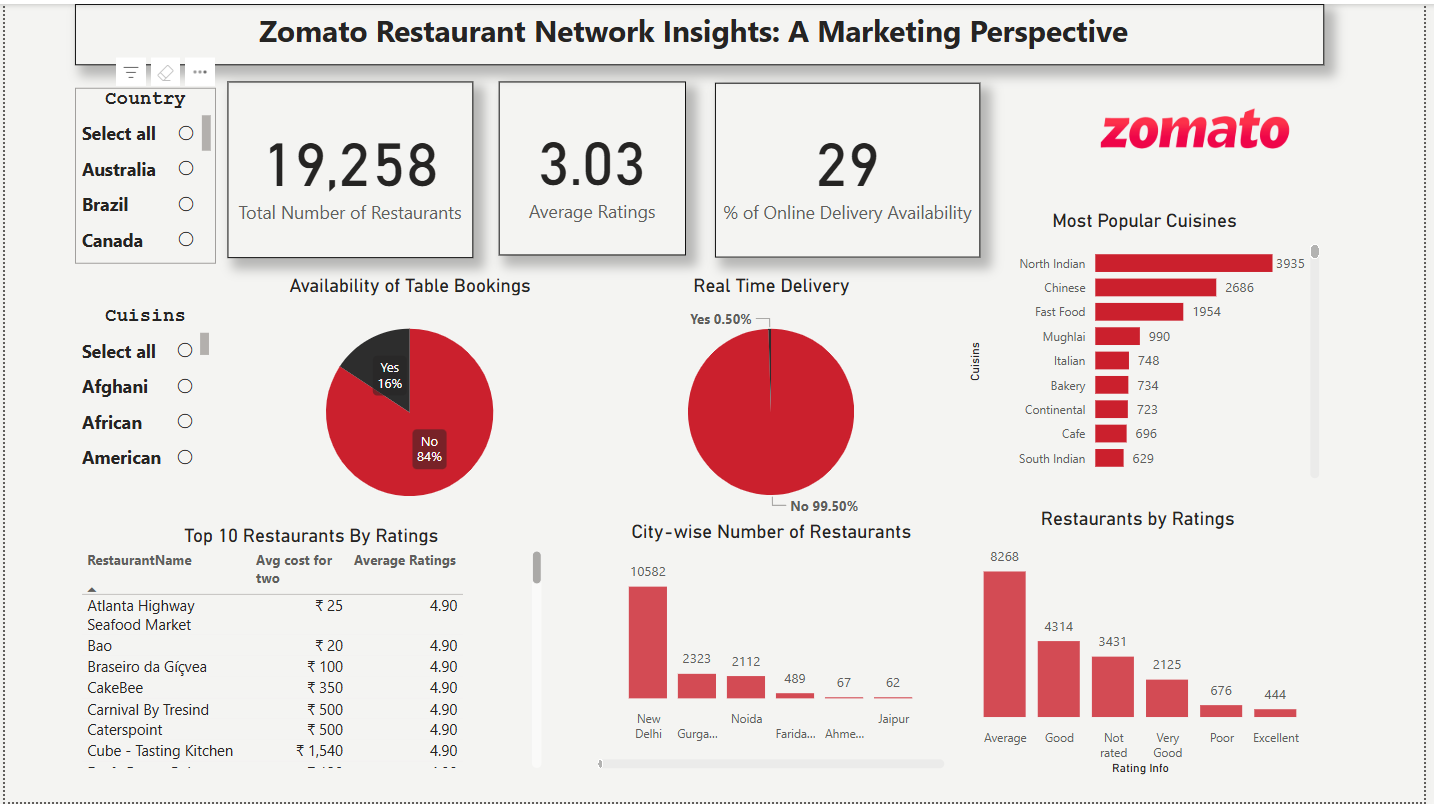

What the dashboard file says about the page in this screenshot:
{"tool":"powerbi","page":{"name":"Zomato Marketing Team Report","canvas":[2000,900],"ordinal":1},"visuals":[{"type":"textbox","box":[434.9,0,1126.9,55.5],"z":0},{"type":"card","title":"Average Rating","fields":{"Values":["Avg(ZomatoData (1).Rating 2)"]},"box":[865.2,73,200.4,95.5],"z":1000},{"type":"card","title":"Total No. of Restaurants","fields":{"Values":["CountNonNull(ZomatoData (1).RestaurantID)"]},"box":[434.5,71.2,262.2,93.6],"z":2000},{"type":"pieChart","title":"Availability of Table Bookings","fields":{"Category":["ZomatoData (1).Has_Table_booking"],"Y":["CountNonNull(ZomatoData (1).Has_Table_booking)"]},"box":[131,188.8,450.8,331.1],"z":3000},{"type":"pieChart","title":"Real Time Delivery","fields":{"Category":["ZomatoData (1).Is_delivering_now"],"Y":["CountNonNull(ZomatoData (1).Is_delivering_now)"]},"box":[565.5,189.1,471.9,331.5],"z":4000},{"type":"slicer","fields":{"Values":["Cuisins.Cuisins"]},"box":[1691.2,70.5,222.6,107.3],"z":5000},{"type":"clusteredBarChart","title":"Top 10 Most Popular Cuisins","fields":{"Category":["Cuisins.Cuisins"],"Y":["ZomatoData (1).count of restaurants"]},"box":[1108.6,194.8,842.7,329.6],"z":6000},{"type":"clusteredColumnChart","title":"Restaurants by Ratings","fields":{"Category":["ZomatoData (1).Rating Info"],"Y":["ZomatoData (1).count of restaurants"]},"box":[498.1,524.3,524.3,374.5],"z":7000},{"type":"slicer","fields":{"Values":["Country Code.Country Name"]},"box":[57.7,80.1,201.8,89.7],"z":8000},{"type":"clusteredColumnChart","title":"Top 20 City-wise Number of Restaurants ","fields":{"Y":["ZomatoData (1).count of restaurants"],"Category":["ZomatoData (1).City"]},"box":[1021.8,523.7,877.6,374.8],"z":9000},{"type":"tableEx","title":"Top 20 Restaurants By Ratings","fields":{"Values":["ZomatoData (1).RestaurantName","Avg(ZomatoData (1).Average_Cost_for_two)","Avg(ZomatoData (1).Rating 2)"]},"box":[20.6,524.3,477.5,376.4],"z":10000},{"type":"card","title":"% of Online Delivery Availability","fields":{"Values":["ZomatoData (1).Online Delivery Availability"]},"box":[1213.5,71.2,348.3,108.6],"z":11000},{"type":"image","box":[0,0,277.1,72.1],"z":12000}]}

Visuals, with their boxes on the page's 2000x900 design canvas (x1, y1, x2, y2). These are canvas units, not pixel positions in the 1434x804 screenshot, which may show the page scaled, cropped or inside an application window:
textbox: 435:0:1562:56
"Average Rating" card: 865:73:1066:168
"Total No. of Restaurants" card: 434:71:697:165
"Availability of Table Bookings" pieChart: 131:189:582:520
"Real Time Delivery" pieChart: 566:189:1037:521
slicer - Cuisins.Cuisins: 1691:70:1914:178
"Top 10 Most Popular Cuisins" clusteredBarChart: 1109:195:1951:524
"Restaurants by Ratings" clusteredColumnChart: 498:524:1022:899
slicer - Country Code.Country Name: 58:80:260:170
"Top 20 City-wise Number of Restaurants " clusteredColumnChart: 1022:524:1899:898
"Top 20 Restaurants By Ratings" tableEx: 21:524:498:901
"% of Online Delivery Availability" card: 1214:71:1562:180
image: 0:0:277:72
